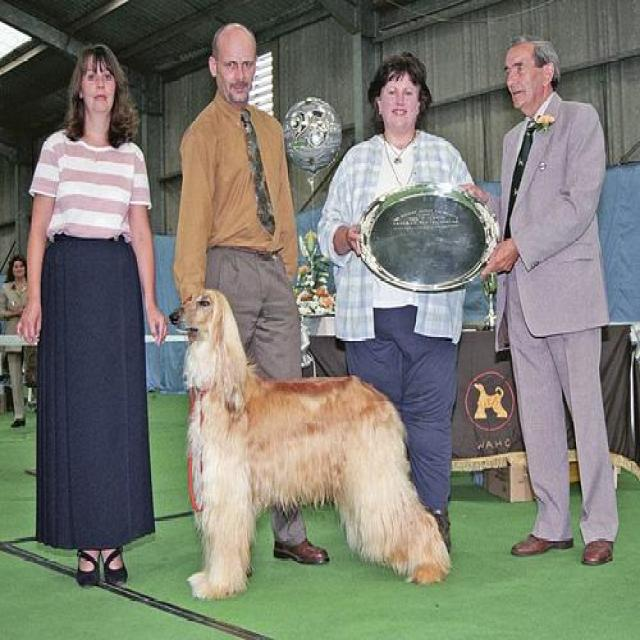afghan_hound: (165, 283, 449, 597)
